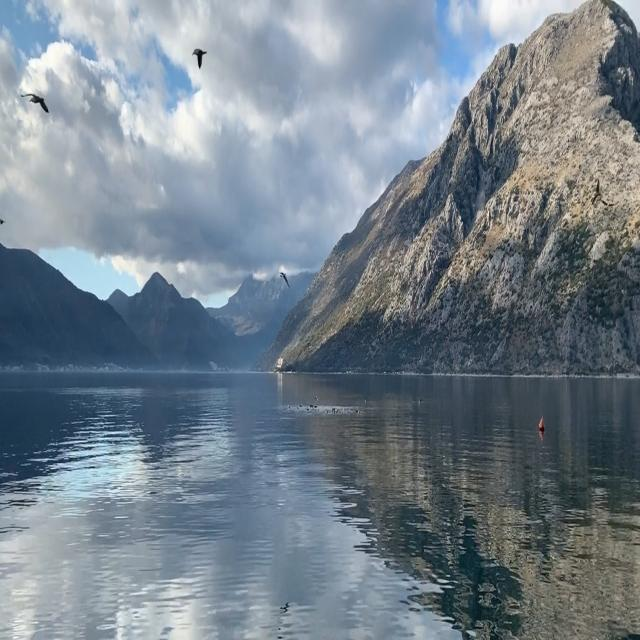bird: (20, 78, 52, 126), (274, 256, 296, 304), (190, 32, 212, 74)
